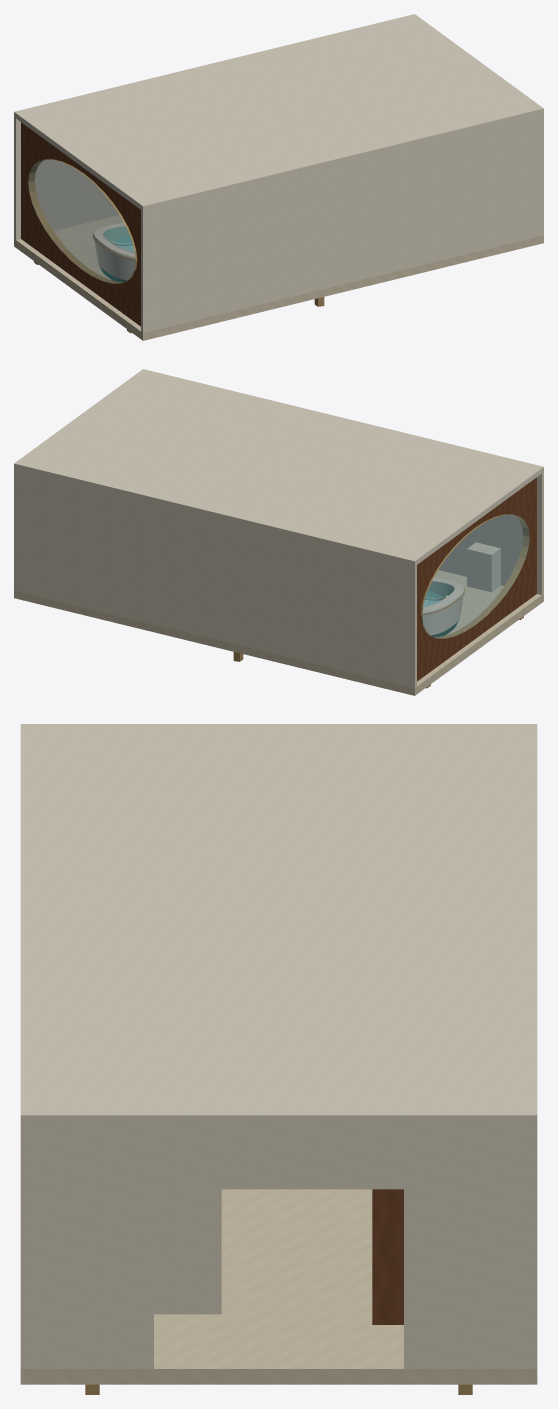
The model's file is NightGardenD15Specialty_488_r002.glb.
3 renders of one model, top to bottom at view 1: azimuth 30°, elevation 25°; view 2: azimuth 150°, elevation 25°; view 3: azimuth 270°, elevation 25°, orthographic. The views are drawn at different scales.
Parts seen in each view (by area): view 1: NG488_RuntimeBatch_001, NG488_OvalAtriumGlass, NG488_RoomFloor, NG488_RuntimeBatch_002, NG488_ReservedRestSupport__Hollow continuous basin shell wit, NG488_RuntimeBatch_004; view 2: NG488_RuntimeBatch_001, NG488_OvalAtriumGlass, NG488_RoomFloor, NG488_RuntimeBatch_002, NG488_ReservedRestSupport__Hollow continuous basin shell wit, NG488_RuntimeBatch_004; view 3: NG488_RuntimeBatch_001, NG488_RoomFloor, NG488_RuntimeBatch_002.
Boxes of the visible parts, x1,y1,x2,y2 form: NG488_RuntimeBatch_001: (14,14,543,332); NG488_OvalAtriumGlass: (28,160,135,283); NG488_RoomFloor: (14,215,543,340); NG488_RuntimeBatch_002: (21,122,140,326); NG488_ReservedRestSupport__Hollow continuous basin shell wit: (93,223,135,281); NG488_RuntimeBatch_004: (28,159,324,333); NG488_RuntimeBatch_001: (14,369,543,687); NG488_OvalAtriumGlass: (422,515,529,638); NG488_RoomFloor: (14,570,543,695); NG488_RuntimeBatch_002: (417,477,536,681); NG488_ReservedRestSupport__Hollow continuous basin shell wit: (422,578,464,636); NG488_RuntimeBatch_004: (233,514,529,688); NG488_RuntimeBatch_001: (20,724,537,1368); NG488_RoomFloor: (20,1189,537,1384); NG488_RuntimeBatch_002: (372,1189,403,1324).
Bounding box in the file's own units: 12.9 × 4.91 × 7.2.
Materials: 61 (43 with a texture image).
